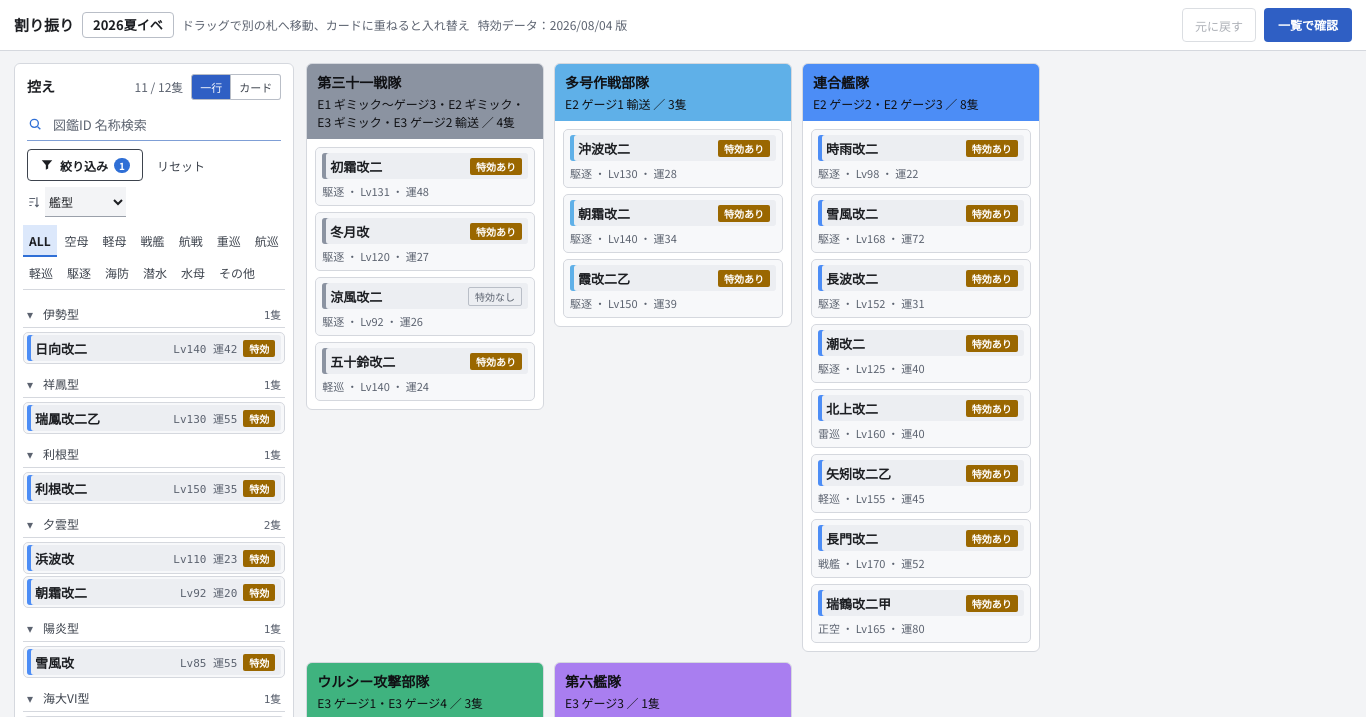
it: 控えの「絞り込み」の欄を閉じる（2026-10-17 の要望 1） › 守り：「絞り込み」のボタンを押すと欄が開き（aria-expanded=true・aria-controls が条件の欄を指す）、もう一度押すと閉じる
Expected: the element "改造状態" is not shown
Expected: the element "特効が効く札" is not shown
Click the button "絞り込み 1" at (85, 165), box [27, 149, 143, 181]
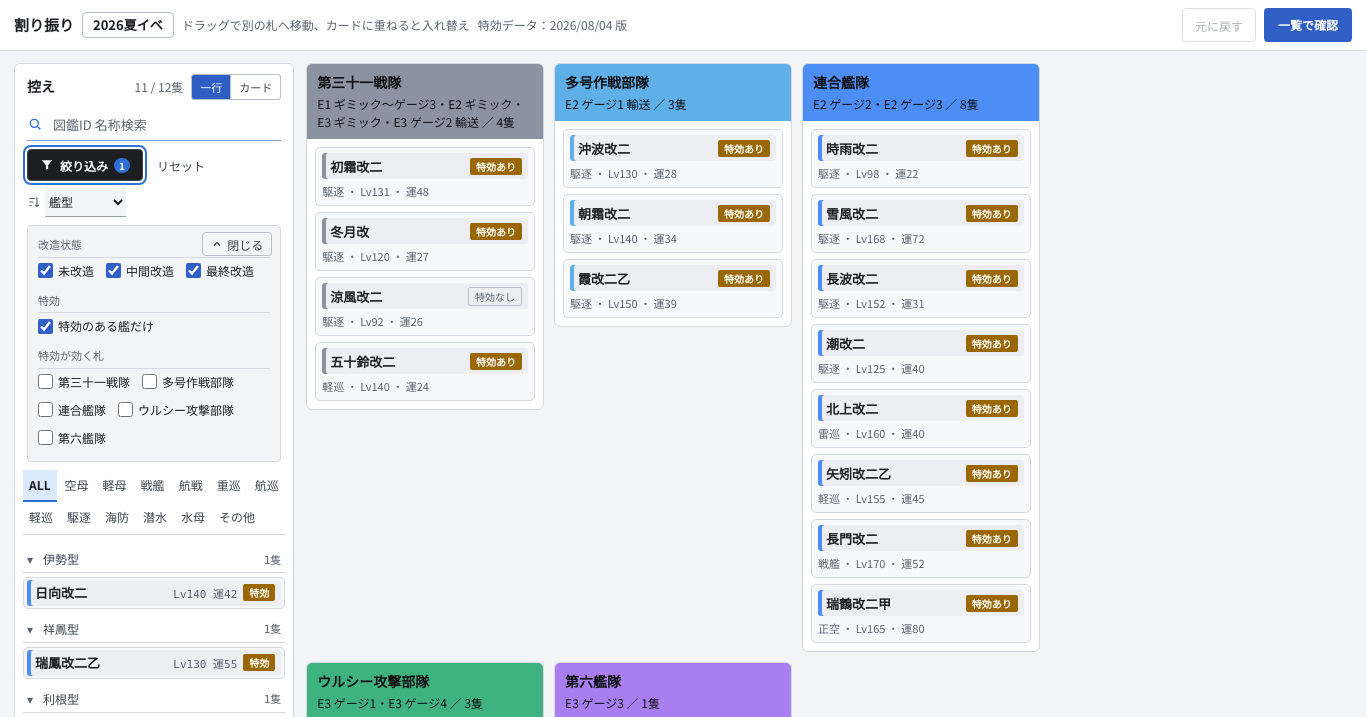
Result: the button "絞り込み 1" is expanded
Result: the element "改造状態" is shown at [38, 236, 270, 284]
Result: the element "特効" is shown at [38, 292, 270, 339]
// 実行：もう一度押して閉じる
Click the button "絞り込み 1" at (85, 165), box [27, 149, 143, 181]
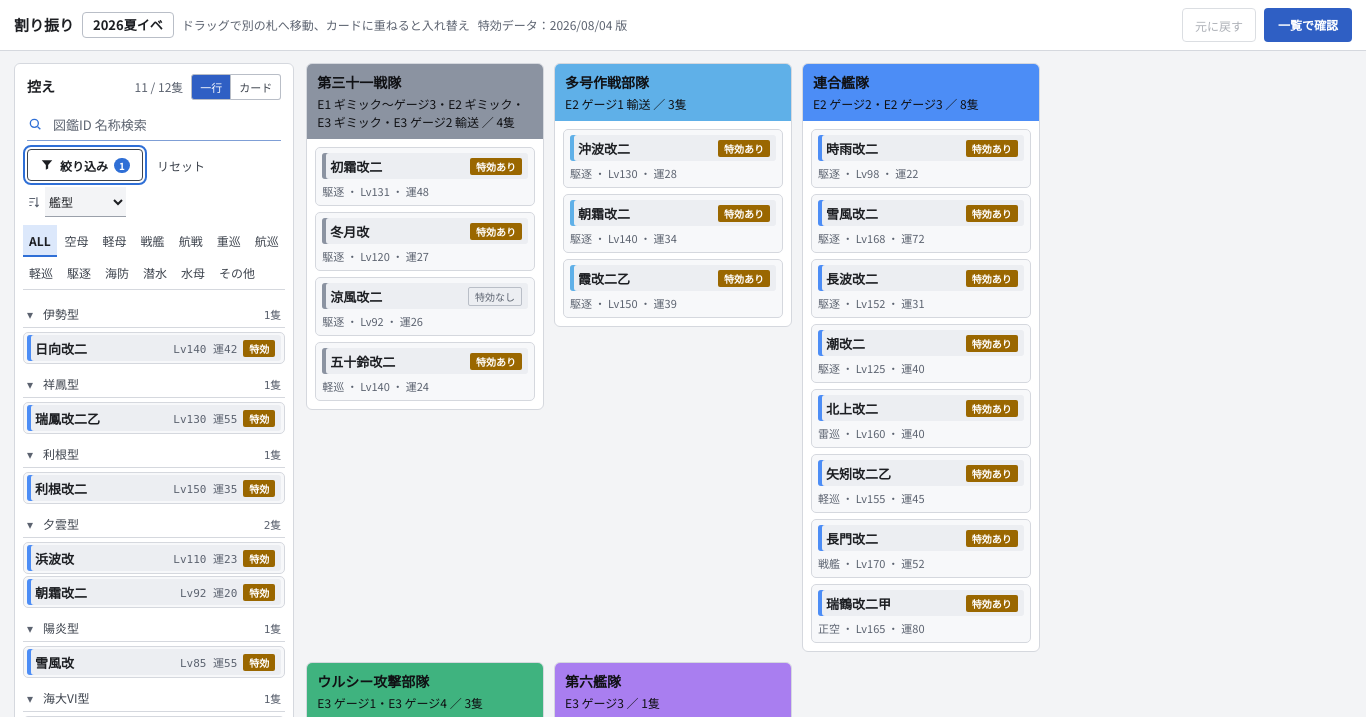
Result: the button "絞り込み 1" is collapsed at [27, 149, 143, 181]
Result: the text "改造状態" is gone
Result: the text "特効が効く札" is gone
